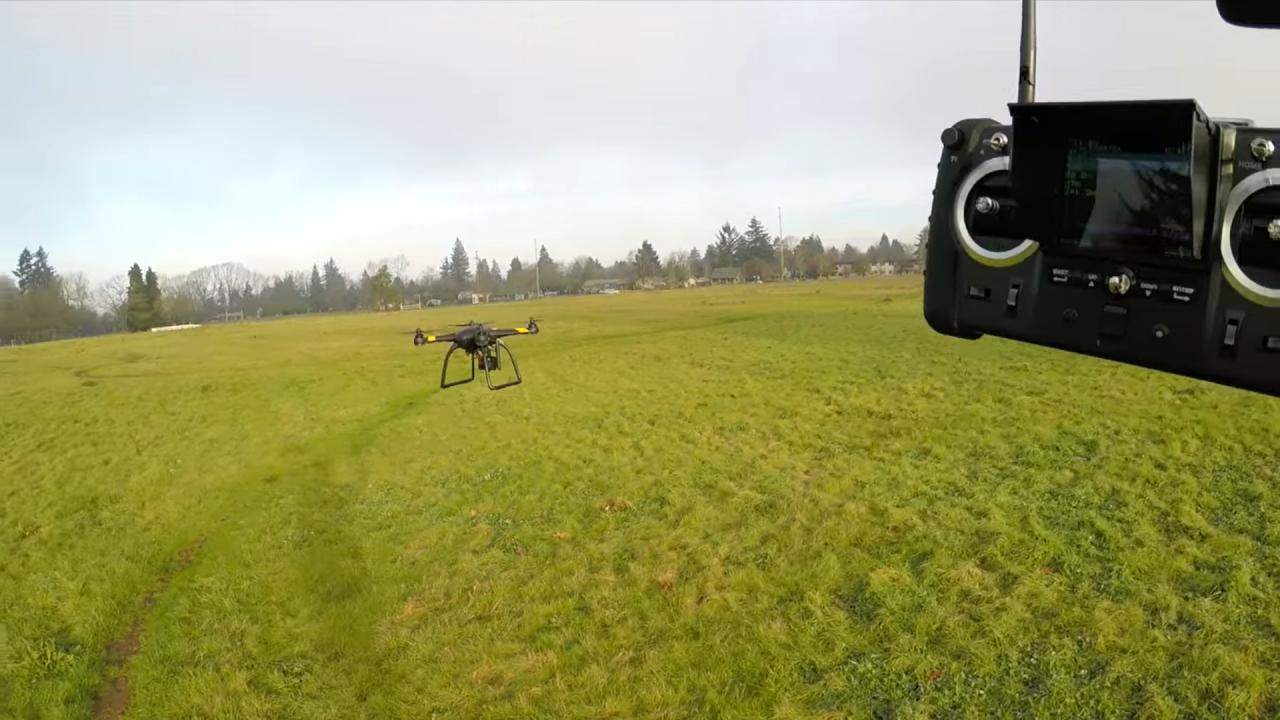Drone: (396, 303, 562, 400)
